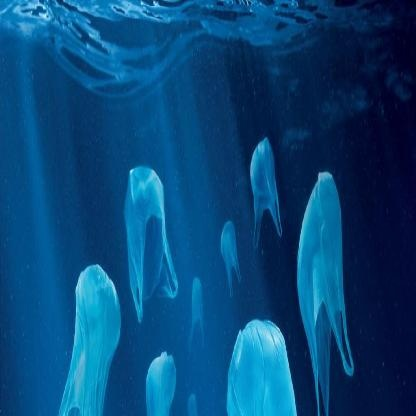pbag: (294, 164, 357, 416), (54, 253, 122, 416), (121, 153, 178, 318), (219, 305, 300, 416), (244, 126, 284, 256), (139, 345, 178, 416), (218, 210, 241, 301), (187, 273, 209, 358), (182, 386, 199, 416)
